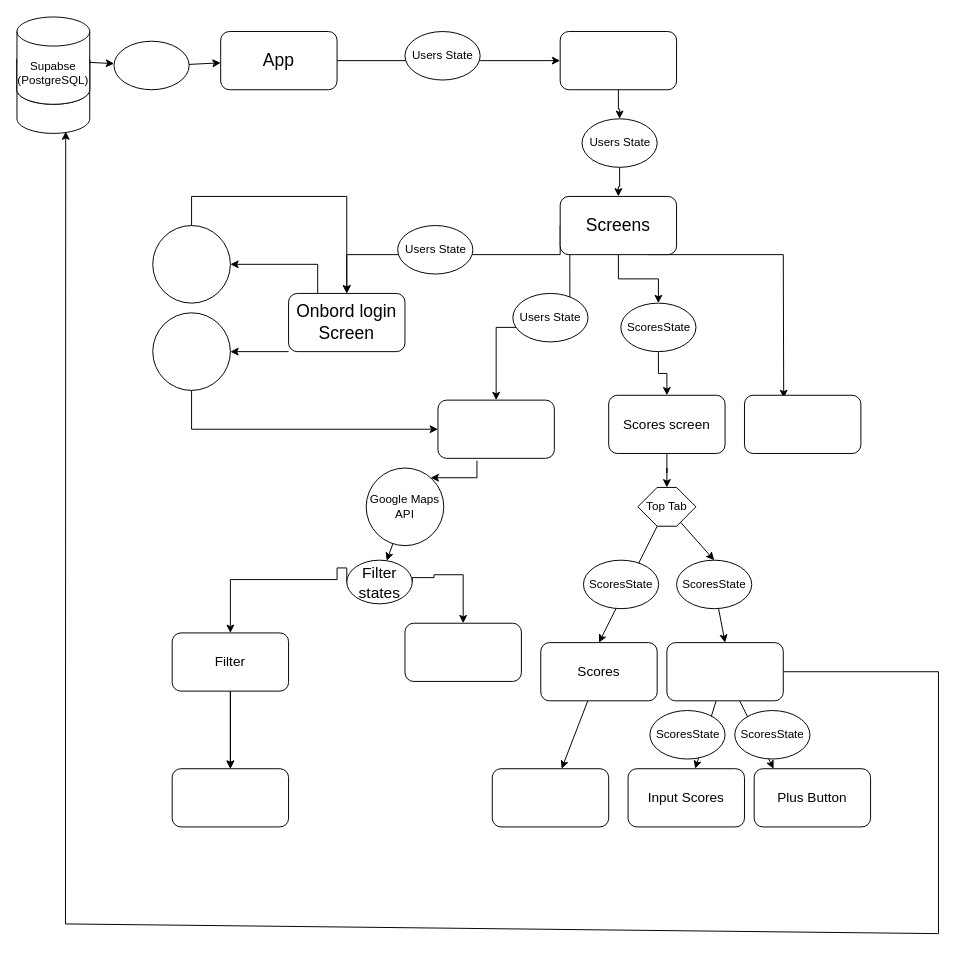
Image size: 963x958. Some labels were removed from this diagram. The centre of each missing label's shape, as x and y in pixels:
"Add Scores" belongs at (x=724, y=671).
"Homescreen/Map Page" belongs at (x=495, y=428).
"If no" belongs at (x=191, y=264).
"If yes" belongs at (x=191, y=351).
"Mapped Toggle Buttons" belongs at (x=230, y=797).
"Navigation" belongs at (x=618, y=60).
"ScoreCards" belongs at (x=550, y=797).
"SearchBar" belongs at (x=462, y=651).
"Supabase" belongs at (x=151, y=65).
"Users screen" belongs at (x=802, y=423).
